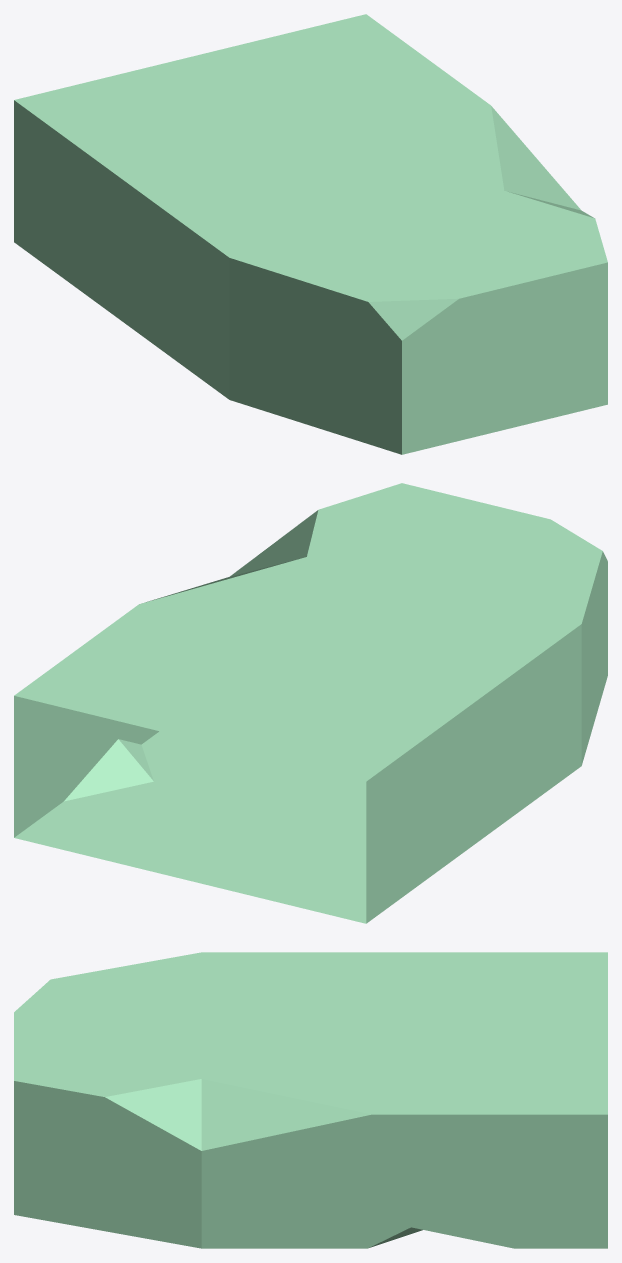
3 renders of one model, top to bottom at view 1: azimuth 30°, elevation 25°; view 2: azimuth 150°, elevation 25°; view 3: azimuth 270°, elevation 25°, orthographic. The views are drawn at different scales.
Visible parts, largest first — view 1: Object46; view 2: Object46; view 3: Object46.
Boxes of the visible parts, x1=… form: Object46: x1=14, y1=14, x2=607, y2=454; Object46: x1=14, y1=483, x2=607, y2=923; Object46: x1=14, y1=952, x2=607, y2=1248.
Bounding box in the file's own units: 13931 × 5374 × 21571.
